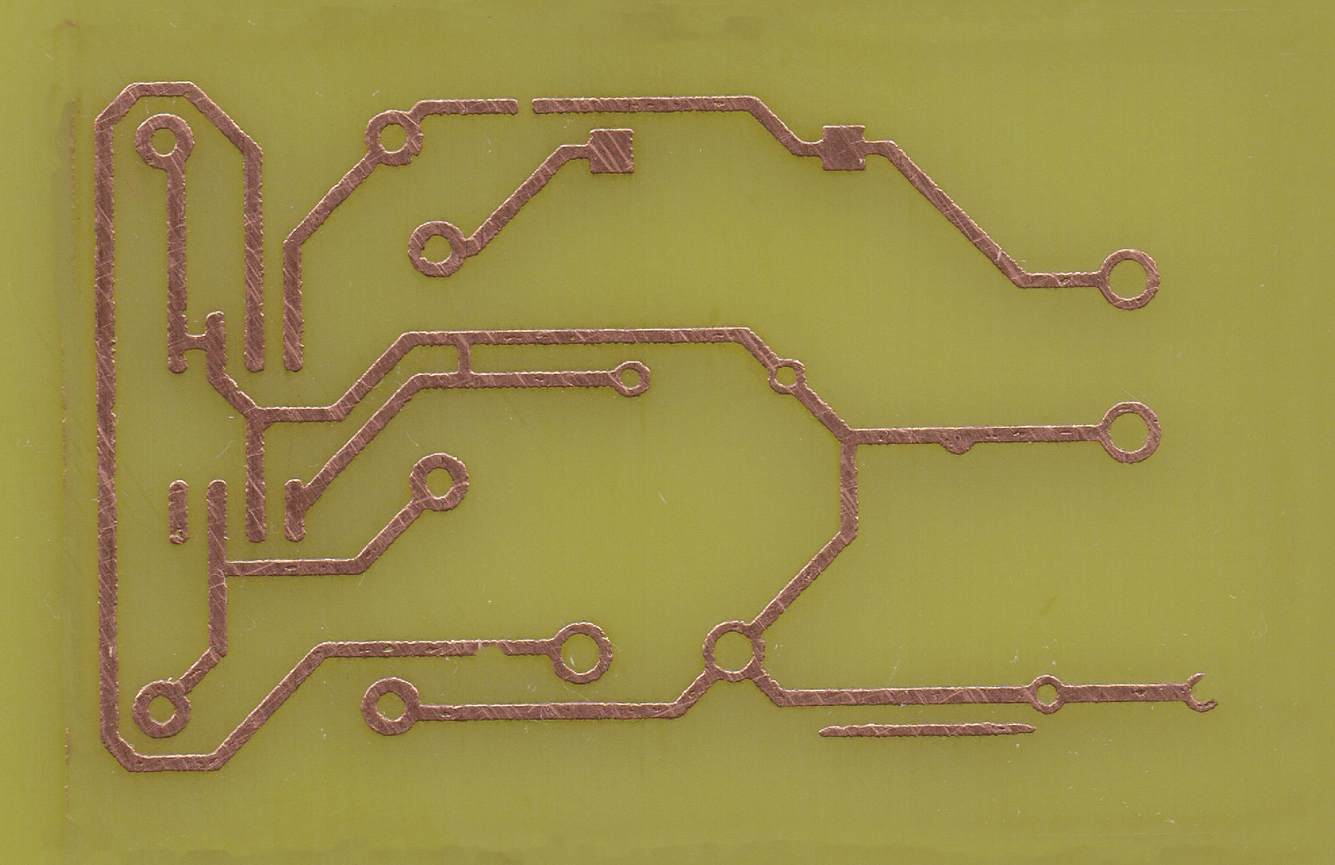missing_hole: (1184, 673, 1221, 714)
mouse_bite: (471, 641, 511, 658)
open_circuit: (505, 97, 547, 115)
short: (449, 328, 481, 388)
spur: (937, 427, 981, 457)
spurious_copper: (817, 721, 1037, 739)
